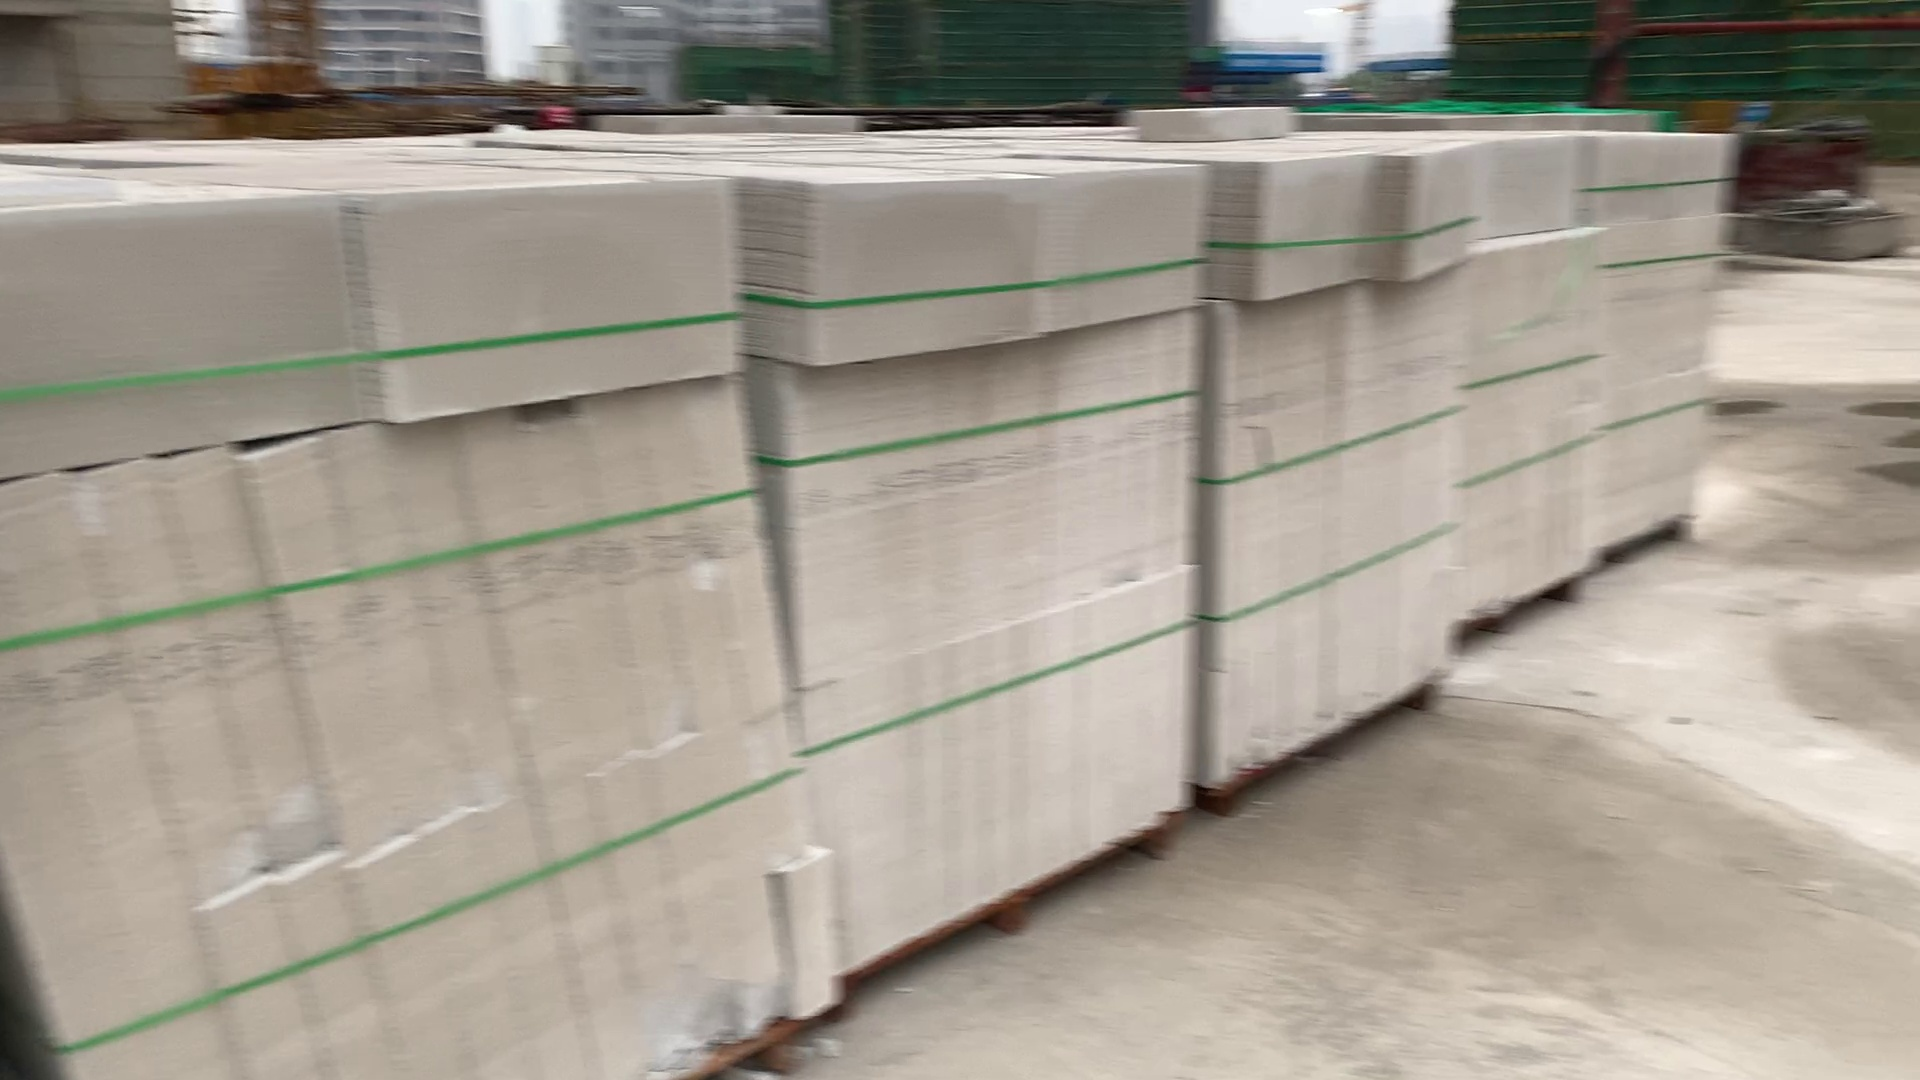brickwork: (7, 152, 825, 1080), (765, 160, 1195, 913), (1222, 138, 1456, 814), (1460, 142, 1600, 633), (1592, 135, 1718, 564)
